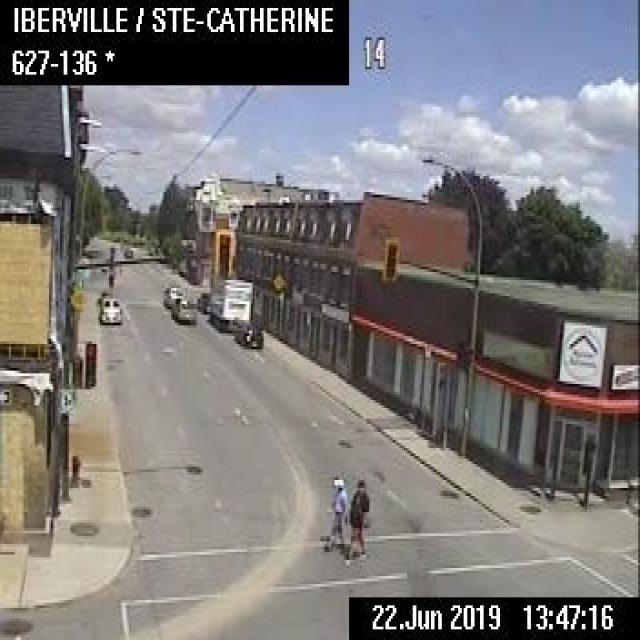pedestrian: (340, 477, 368, 563), (323, 472, 347, 553)
vehicle: (206, 275, 252, 329), (233, 318, 262, 346), (98, 292, 121, 322), (169, 296, 194, 321), (162, 283, 183, 305), (195, 289, 208, 311)
